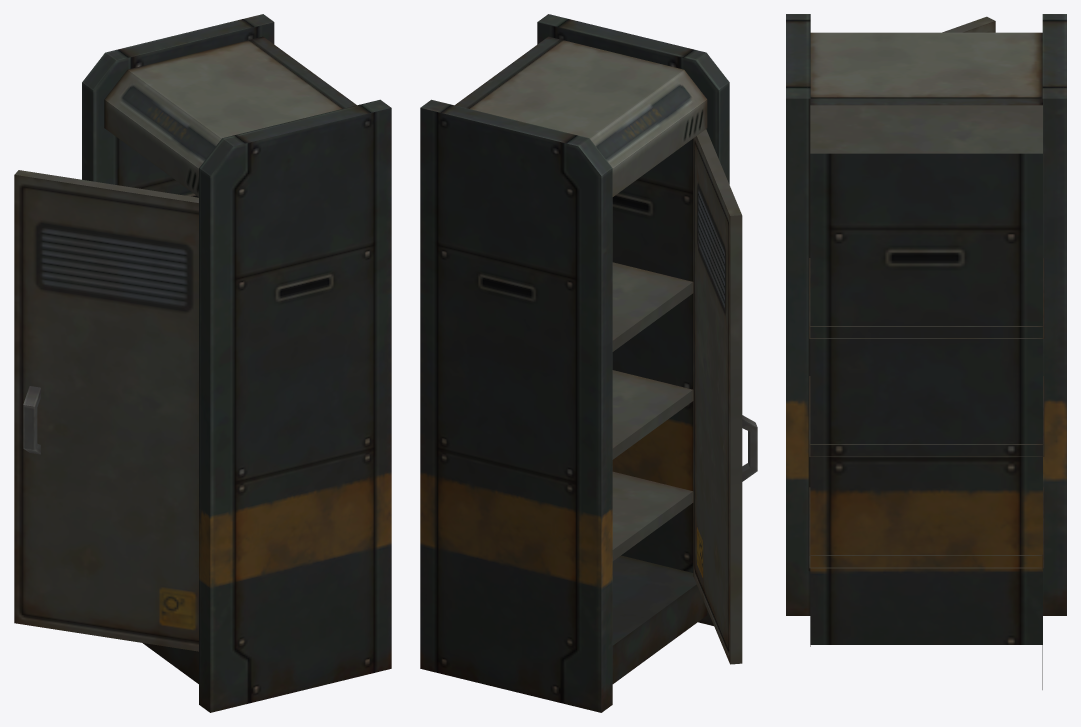
File: Locker02.FBX
3 views of the same model, side by side, from view 1: azimuth 30°, elevation 25°; view 2: azimuth 150°, elevation 25°; view 3: azimuth 270°, elevation 25° (orthographic). The views are drawn at different scales.
Parts seen in each view (by area): view 1: Locker02; view 2: Locker02; view 3: Locker02.
Boxes of the visible parts, x1,y1,x2,y2 form: Locker02: [14, 14, 391, 712]; Locker02: [420, 14, 757, 712]; Locker02: [786, 14, 1066, 689].
Bounding box in the file's own units: 1.24 × 2.29 × 0.9504.
1 material, 1 textured.
